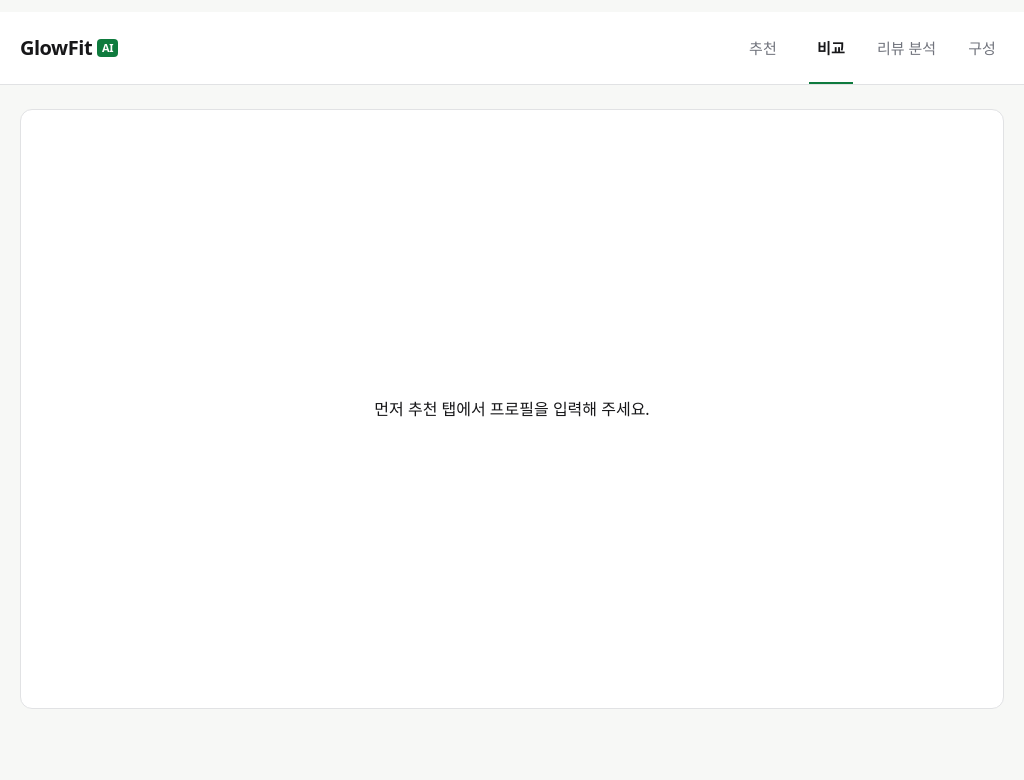
Test: recommendation flow › opens compare and insights tabs from hash navigation
Step 1. Click the button "리뷰 분석" → {"x": 906, "y": 48}, box [877,12,936,84]
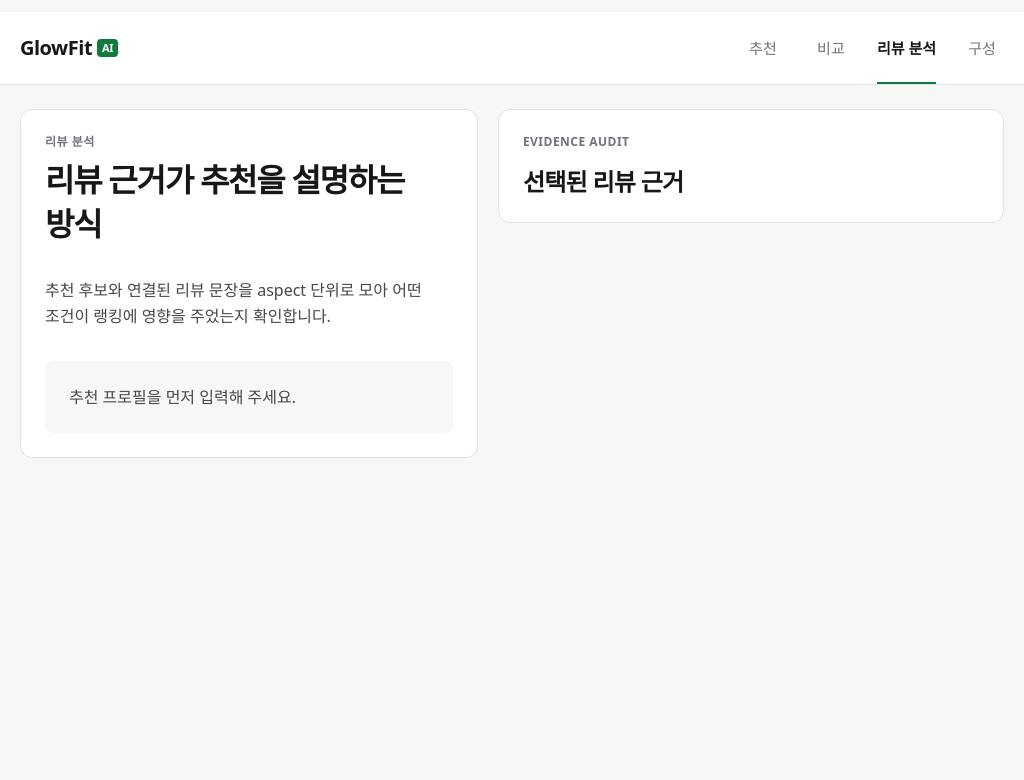
Expected: the heading "리뷰 근거가 추천을 설명하는 방식" is shown, [45,158,453,246]
